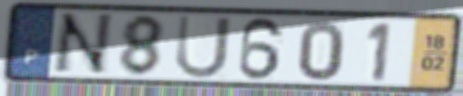0: (294, 18, 348, 83)
1: (365, 20, 393, 83)
6: (235, 15, 287, 82)
8: (118, 12, 168, 78)
N: (48, 11, 116, 77)
U: (173, 13, 234, 81)
